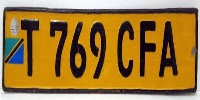T: (20, 18, 44, 79)
